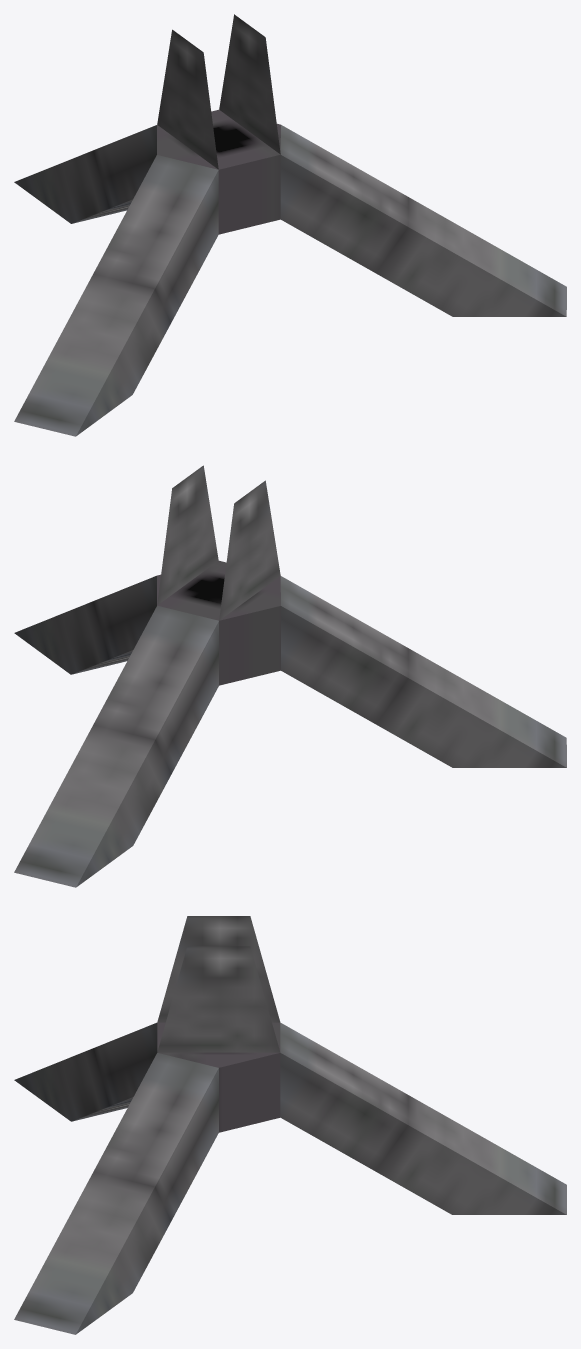
Rendered from TRIPOD_HMG.glb.
3 views of the same model, one above another, from view 1: azimuth 30°, elevation 25°; view 2: azimuth 150°, elevation 25°; view 3: azimuth 270°, elevation 25° (orthographic).
Visible parts, largest first — view 1: TRIPOD_HMG, CONNECTOR_MOUNT01; view 2: TRIPOD_HMG, CONNECTOR_MOUNT01; view 3: TRIPOD_HMG, CONNECTOR_MOUNT01.
Part boxes in pixels (bbox=[...]): TRIPOD_HMG: bbox=[14, 109, 566, 436]; CONNECTOR_MOUNT01: bbox=[157, 14, 280, 169]; TRIPOD_HMG: bbox=[14, 560, 566, 887]; CONNECTOR_MOUNT01: bbox=[157, 465, 280, 620]; TRIPOD_HMG: bbox=[14, 1022, 566, 1334]; CONNECTOR_MOUNT01: bbox=[157, 916, 280, 1052].
Size of the model in its own units: 0.446 by 0.207 by 0.386.
1 material, 1 textured.
